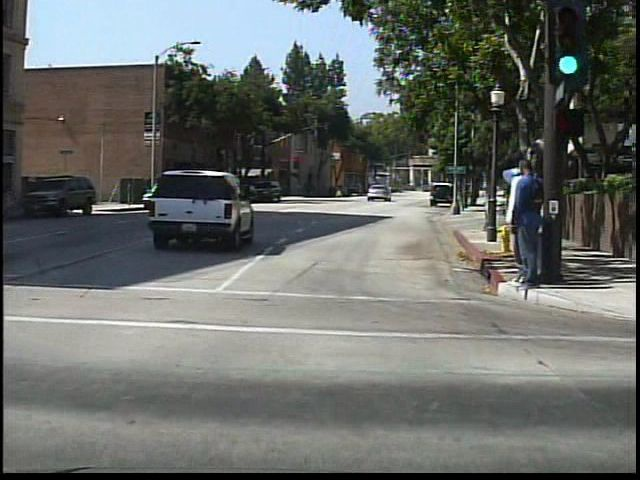person: (495, 161, 533, 292), (509, 154, 542, 294), (334, 181, 345, 198)
